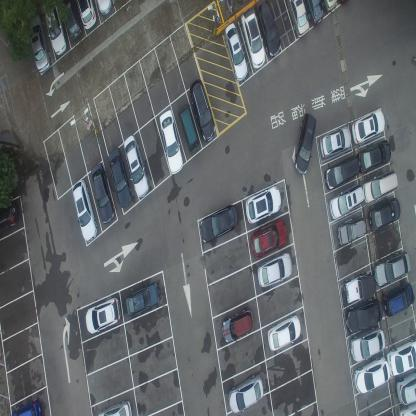car: (189, 78, 215, 143), (73, 180, 99, 244), (124, 136, 150, 200), (159, 110, 184, 176), (199, 202, 238, 244), (253, 0, 281, 57), (228, 372, 265, 414), (223, 20, 248, 82), (250, 218, 288, 258), (92, 163, 116, 226), (353, 353, 391, 392), (294, 109, 316, 176), (109, 149, 133, 210), (241, 6, 265, 67), (245, 184, 281, 224), (374, 249, 411, 287), (267, 312, 302, 352), (86, 298, 122, 336), (324, 152, 360, 190), (30, 14, 52, 75), (257, 250, 293, 287), (362, 165, 398, 202), (44, 0, 67, 57), (350, 324, 386, 360), (330, 180, 364, 218), (351, 106, 386, 142), (126, 280, 160, 317), (346, 296, 383, 330), (357, 136, 391, 172), (368, 193, 401, 230), (383, 281, 415, 318), (222, 306, 254, 342), (386, 338, 416, 375), (59, 0, 84, 44), (318, 123, 352, 155), (178, 105, 200, 154), (343, 269, 375, 302), (285, 0, 310, 38), (336, 216, 366, 245), (0, 198, 19, 234), (396, 372, 416, 406), (74, 0, 96, 30), (98, 396, 131, 415), (10, 395, 40, 415), (303, 0, 324, 26), (95, 0, 112, 15), (323, 0, 338, 15), (399, 404, 415, 415)
